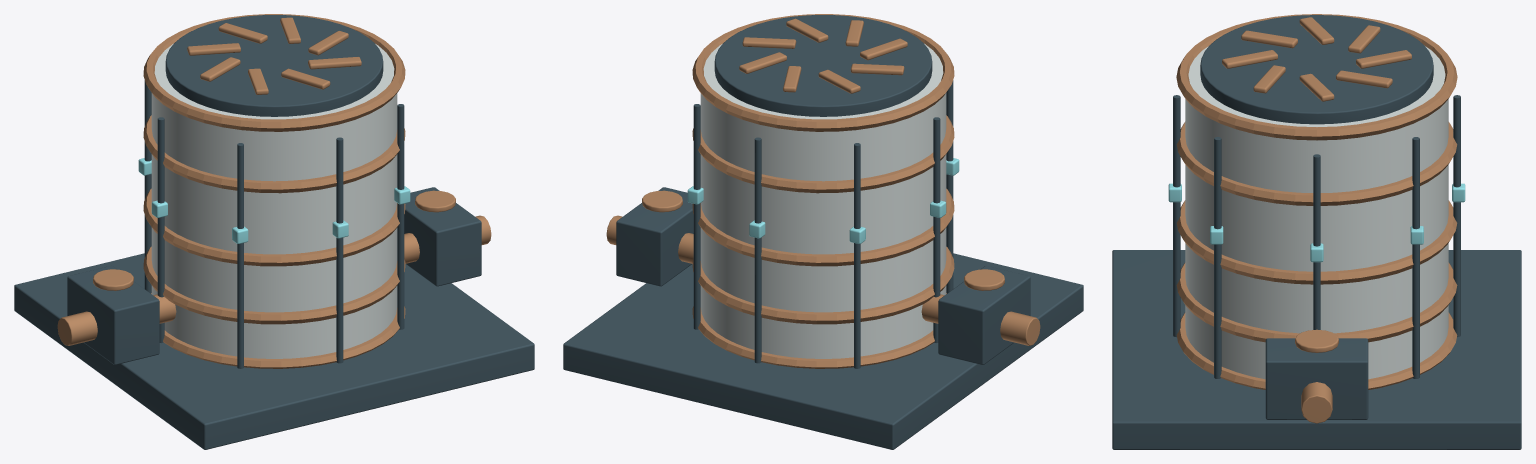
The model's file is GroundReactor115.fbx.
3 views of the same model, side by side, from view 1: azimuth 30°, elevation 25°; view 2: azimuth 150°, elevation 25°; view 3: azimuth 270°, elevation 25° (orthographic). The views are drawn at different scales.
Visible parts, largest first — view 1: Reactor pressure vessel, Reactor plinth, Upper thermal dome, Valve station, Pressure vessel course.004, Valve station.001, Pressure vessel course.001, Pressure vessel course.002, Pressure vessel course.003, Pressure vessel course, External service ladder.006, External service ladder.007 (+11 smaller); view 2: Reactor pressure vessel, Reactor plinth, Upper thermal dome, Valve station, Pressure vessel course.004, Valve station.001, Pressure vessel course.001, Pressure vessel course.002, Pressure vessel course.003, Pressure vessel course, External service ladder.002, External service ladder.001 (+9 smaller); view 3: Reactor pressure vessel, Reactor plinth, Upper thermal dome, Valve station.001, Pressure vessel course.004, Pressure vessel course.002, Pressure vessel course.003, Pressure vessel course.001, Pressure vessel course, External service ladder.001, External service ladder.007, External service ladder.002 (+12 smaller).
Part boxes in pixels (x1,y1,x2,y2): Reactor pressure vessel: (151,43,397,358); Reactor plinth: (14,253,534,449); Upper thermal dome: (165,15,383,116); Valve station: (67,265,159,364); Pressure vessel course.004: (143,14,405,131); Valve station.001: (404,187,481,286); Pressure vessel course.001: (143,246,405,324); Pressure vessel course.002: (143,188,405,266); Pressure vessel course.003: (143,115,405,193); Pressure vessel course: (151,293,405,368); External service ladder.006: (336,137,343,363); External service ladder.007: (397,104,404,329); Reactor pressure vessel: (700,43,946,358); Reactor plinth: (563,253,1083,449); Upper thermal dome: (714,15,932,116); Valve station: (938,265,1030,364); Pressure vessel course.004: (692,14,954,131); Valve station.001: (616,187,693,286); Pressure vessel course.001: (692,246,954,324); Pressure vessel course.002: (692,188,954,266); Pressure vessel course.003: (692,115,954,193); Pressure vessel course: (692,293,946,368); External service ladder.002: (754,137,761,363); External service ladder.001: (693,104,700,329); Reactor pressure vessel: (1185,46,1448,379); Reactor plinth: (1112,250,1521,449); Upper thermal dome: (1200,15,1433,124); Valve station.001: (1265,338,1368,419); Pressure vessel course.004: (1176,14,1457,140); Pressure vessel course.002: (1176,200,1457,284); Pressure vessel course.003: (1176,122,1457,205); Pressure vessel course.001: (1176,262,1457,342); Pressure vessel course: (1176,312,1457,389); External service ladder.001: (1412,137,1419,378); External service ladder.007: (1214,137,1221,378); External service ladder.002: (1453,95,1460,337).
Size of the model in its own units: 660 by 431 by 520.
